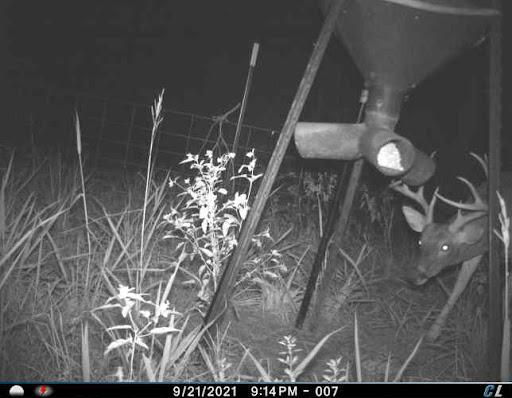Deer: (379, 147, 512, 356)
